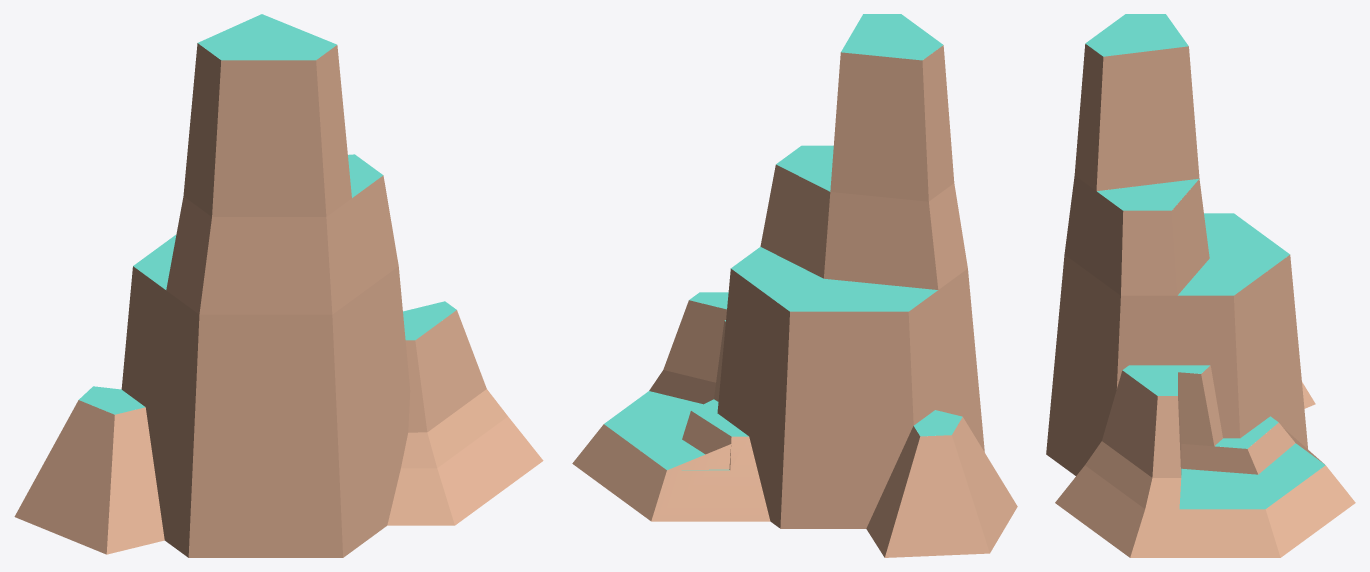
Rendered from rock_tallA.glb.
The picture shows the model from 3 angles, left to right: view 1: azimuth 30°, elevation 25°; view 2: azimuth 150°, elevation 25°; view 3: azimuth 270°, elevation 25°; orthographic projection. The views are drawn at different scales.
Visible parts, largest first — view 1: rock_tallA; view 2: rock_tallA; view 3: rock_tallA.
Boxes of the visible parts, x1,y1,x2,y2 form: rock_tallA: (14,14,543,557); rock_tallA: (572,14,1017,557); rock_tallA: (1046,14,1355,557).
Bounding box in the file's own units: 0.983 × 0.9959 × 0.6832.
